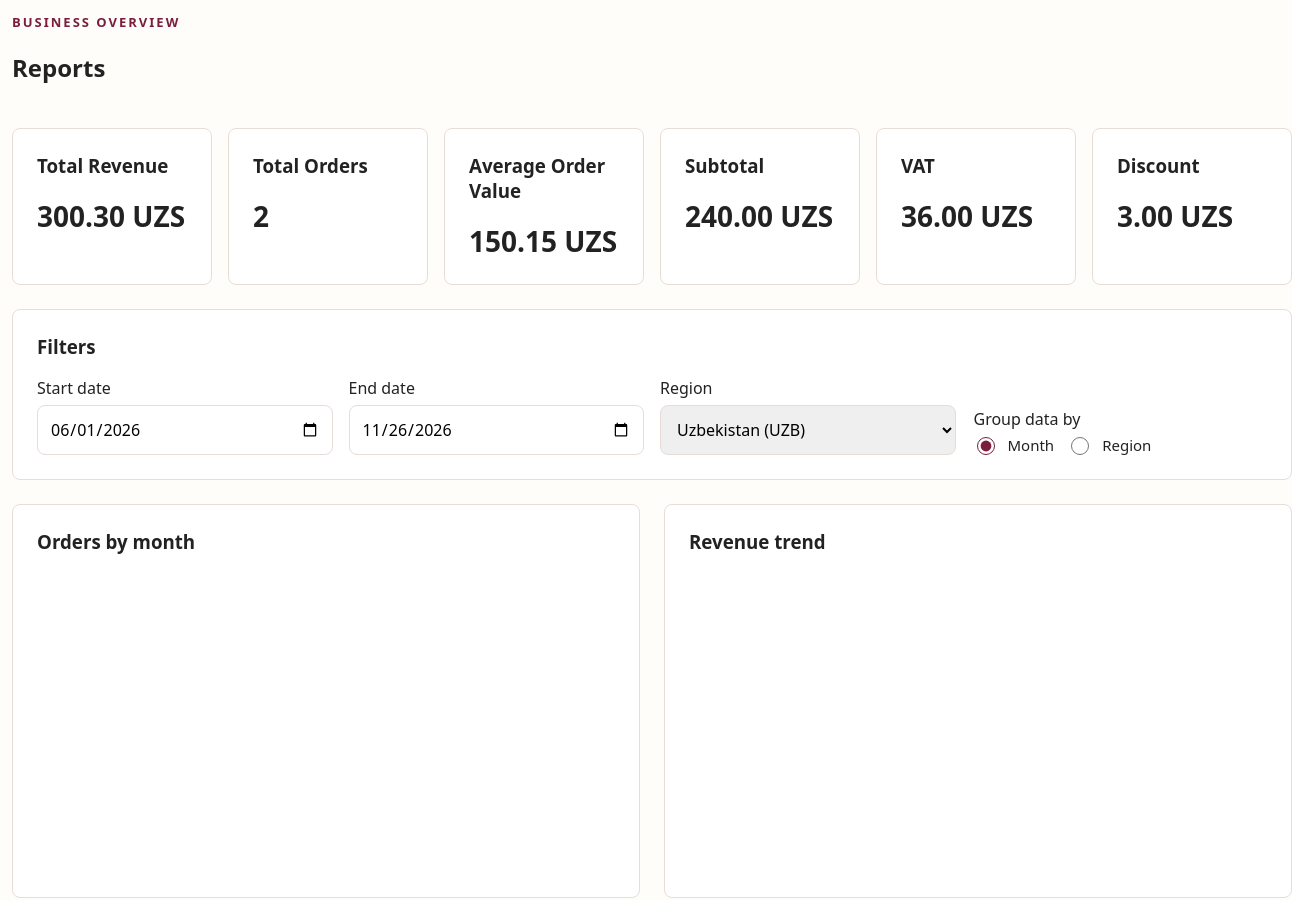
Test: Sales reports › prevents invalid ranges and disables export until current data is available
Expected: the text "300.30 UZS" is shown, top-left (37, 196), bottom-right (185, 234)
In the date field labelled "Start date": (185, 430) top-left (37, 405), bottom-right (332, 455), type "2099-01-01"
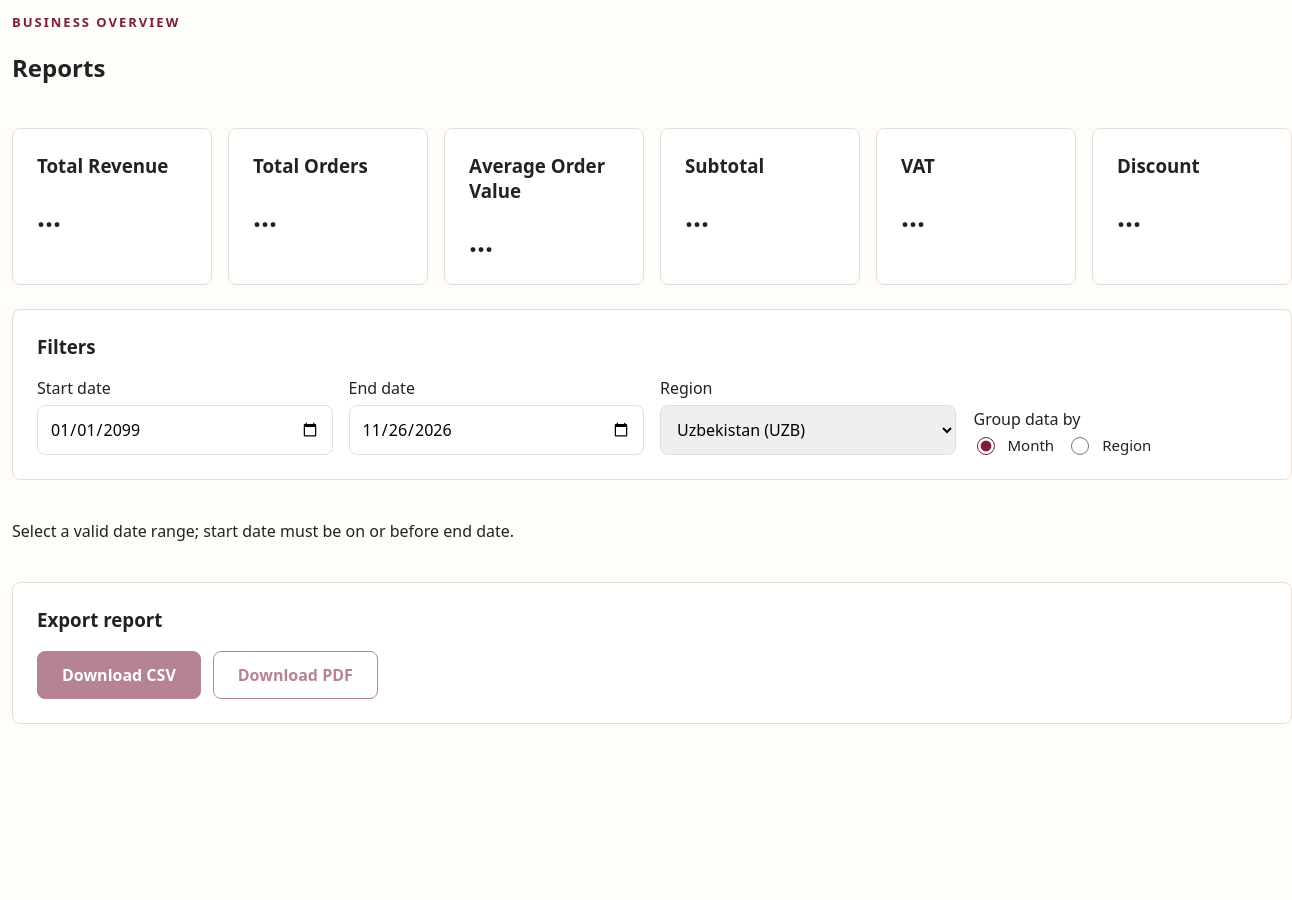
Now the message shows "valid date range", box top-left (12, 520), bottom-right (514, 542)
Now the button "Download PDF" is disabled, box top-left (213, 651), bottom-right (378, 699)
